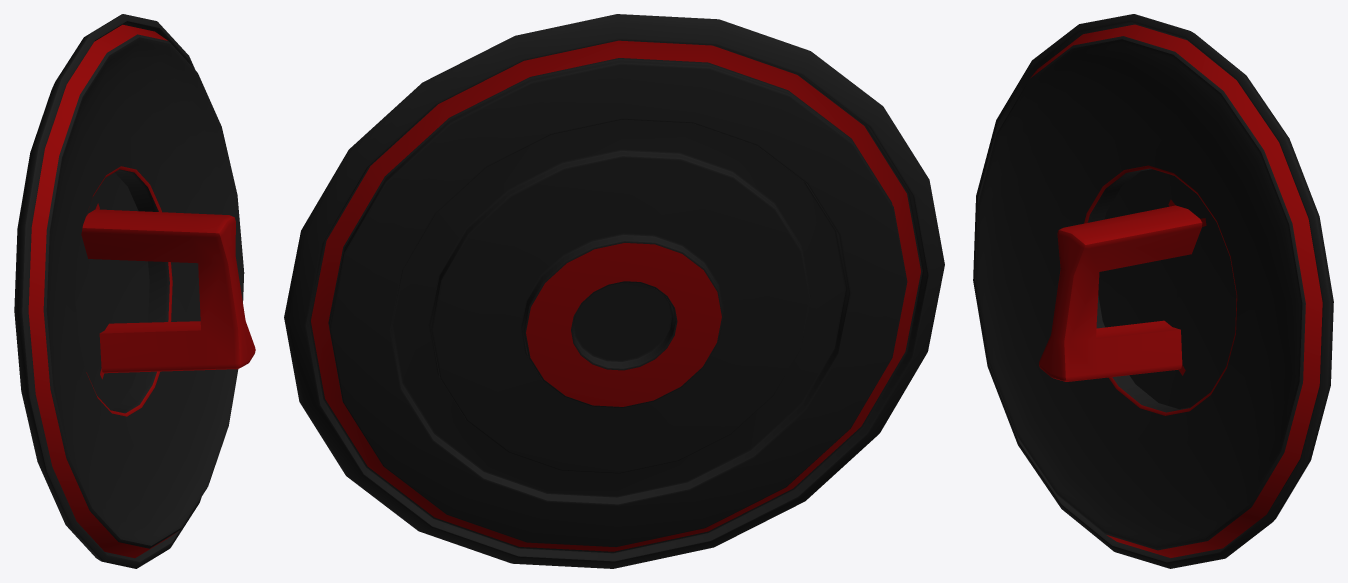
Rendered from Shield_ASS.fbx.
The picture shows the model from 3 angles, left to right: view 1: azimuth 30°, elevation 25°; view 2: azimuth 150°, elevation 25°; view 3: azimuth 270°, elevation 25°; orthographic projection. The views are drawn at different scales.
Parts seen in each view (by area): view 1: pSphere2; view 2: pSphere2; view 3: pSphere2.
Part boxes in pixels (x1,y1,x2,y2): pSphere2: (14,14,255,568); pSphere2: (284,14,944,568); pSphere2: (973,14,1333,568).
Size of the model in its own units: 32.63 by 41.18 by 26.9.
